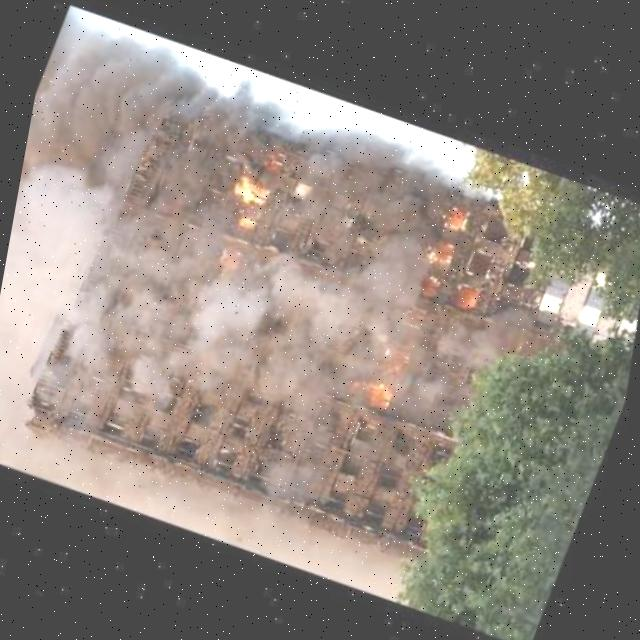fire: (217, 124, 299, 240), (406, 188, 482, 283), (358, 362, 398, 398)
